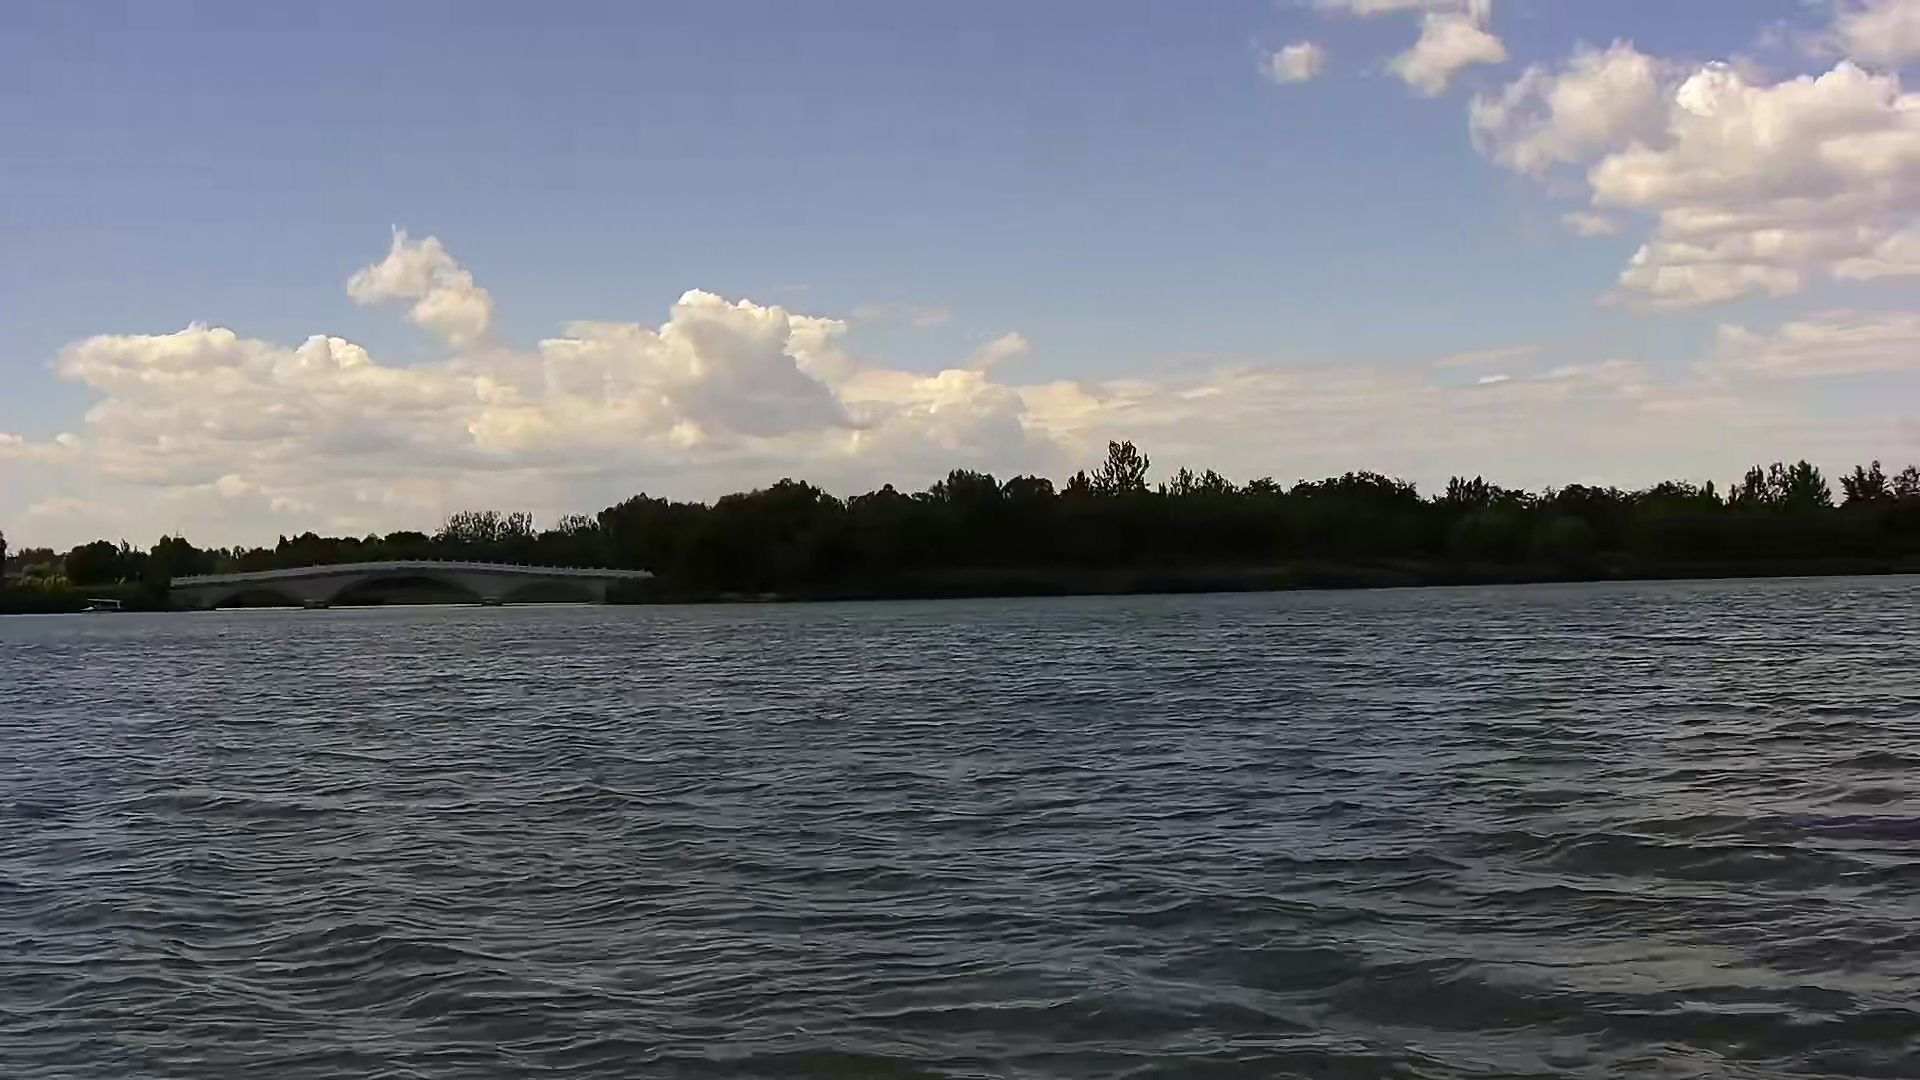bridge: (165, 560, 655, 611)
